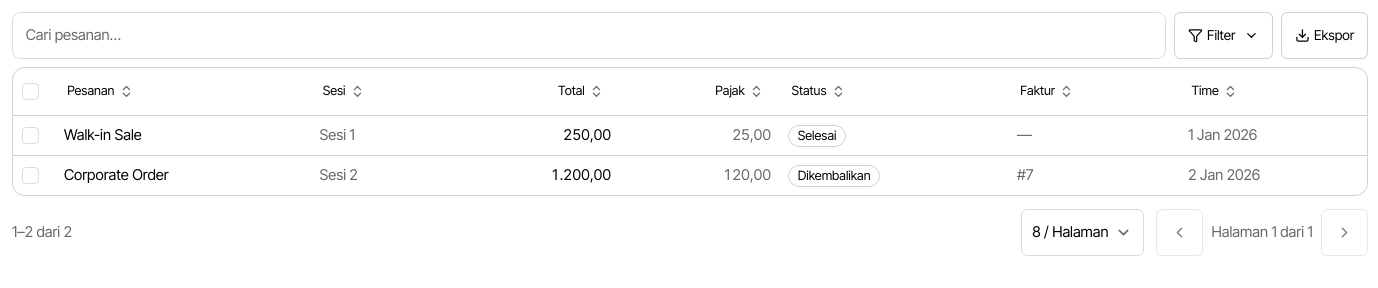
Test: PosOrdersSection › filters orders through the search box
expect the link "Walk-in Sale" is shown: met, box [64, 126, 142, 144]
Type "Corporate" into the search field with placeholder "Cari pesanan…" at (589, 35), box [12, 12, 1166, 59]
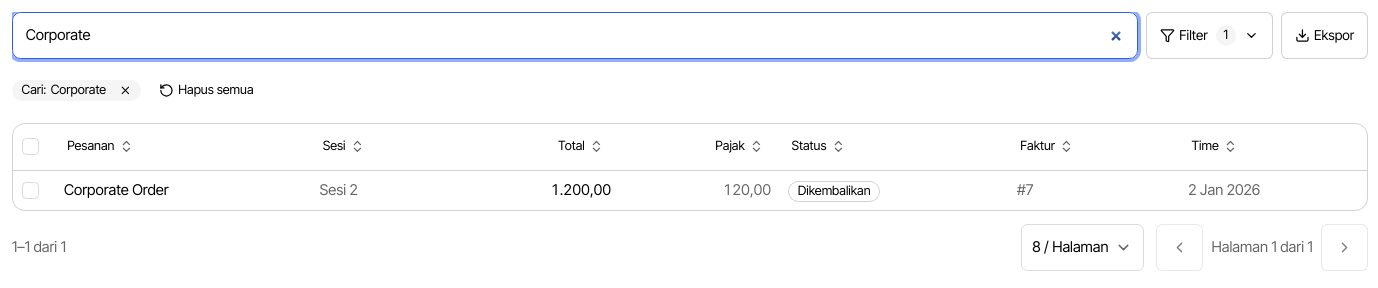
expect the link "Corporate Order" is shown: met, box [64, 181, 168, 199]
expect the link "Walk-in Sale" is gone: met
